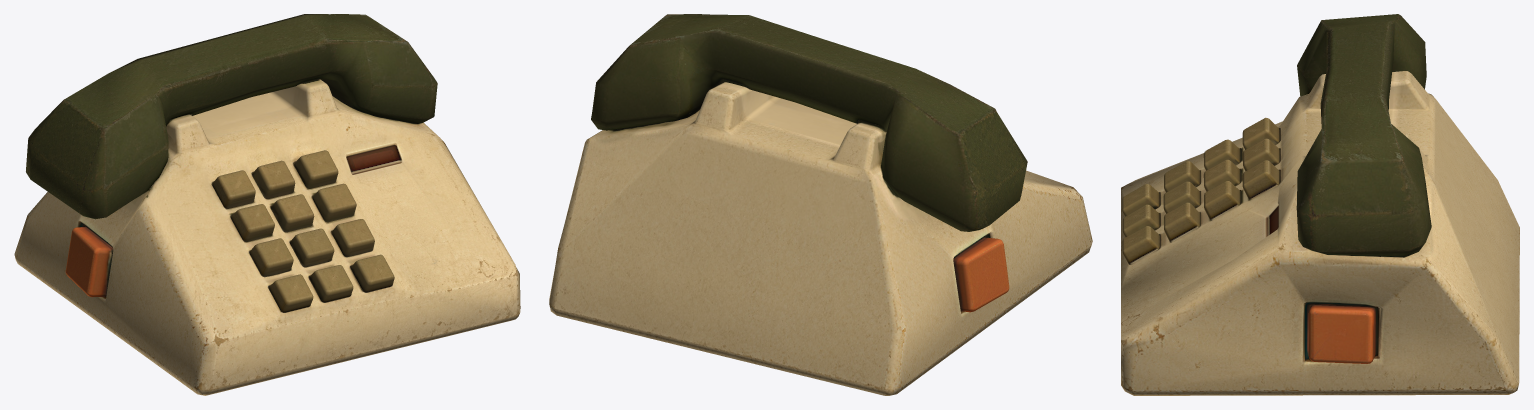
File: P04_phone_Runtime_1k.glb
The picture shows the model from 3 angles, left to right: view 1: azimuth 30°, elevation 25°; view 2: azimuth 150°, elevation 25°; view 3: azimuth 270°, elevation 25°; orthographic projection. The views are drawn at different scales.
Visible parts, largest first — view 1: e92c40eb_d027_4c3a_8f38_55cd4f0024ea; view 2: e92c40eb_d027_4c3a_8f38_55cd4f0024ea; view 3: e92c40eb_d027_4c3a_8f38_55cd4f0024ea.
Part boxes in pixels (x1,y1,x2,y2): e92c40eb_d027_4c3a_8f38_55cd4f0024ea: (14, 14, 520, 395); e92c40eb_d027_4c3a_8f38_55cd4f0024ea: (549, 14, 1092, 395); e92c40eb_d027_4c3a_8f38_55cd4f0024ea: (1121, 14, 1519, 395).
Bounding box in the file's own units: 0.24 × 0.1504 × 0.2137.
Materials: 1 (1 with a texture image).
